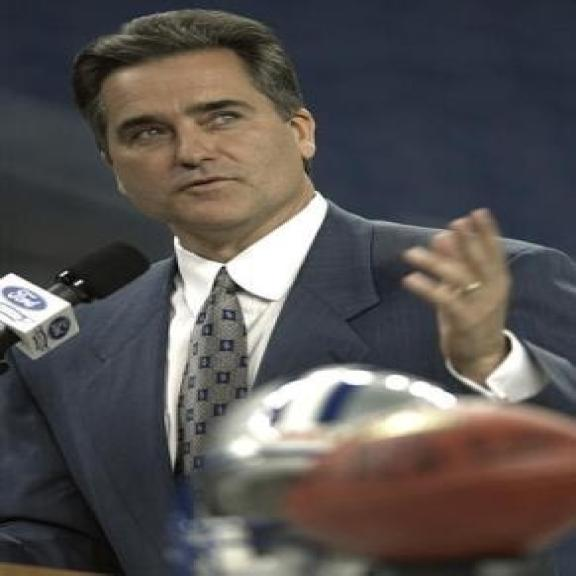face: (91, 18, 319, 235)
